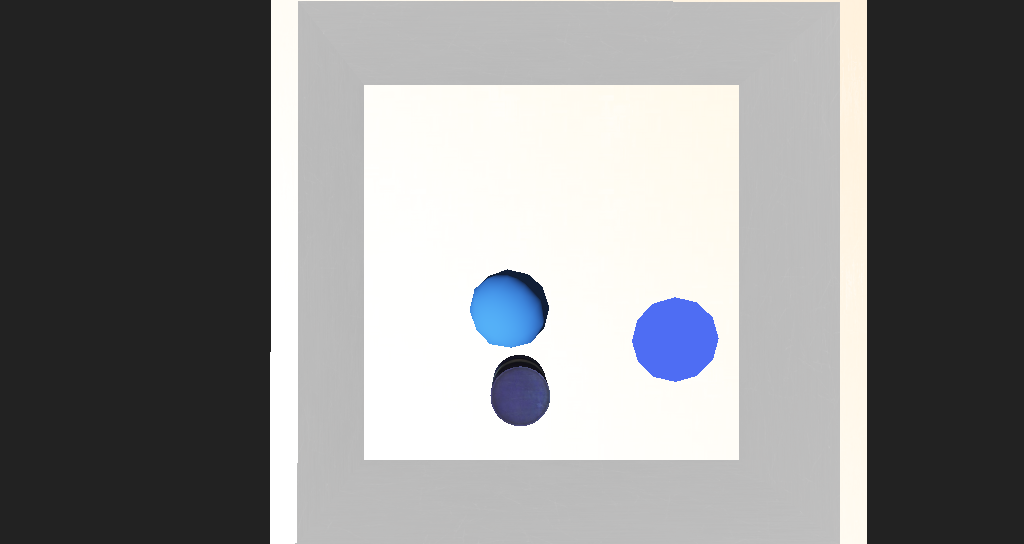cone: (455, 315, 502, 353)
cylinder: (563, 279, 637, 332)
sphere: (441, 270, 502, 313)
